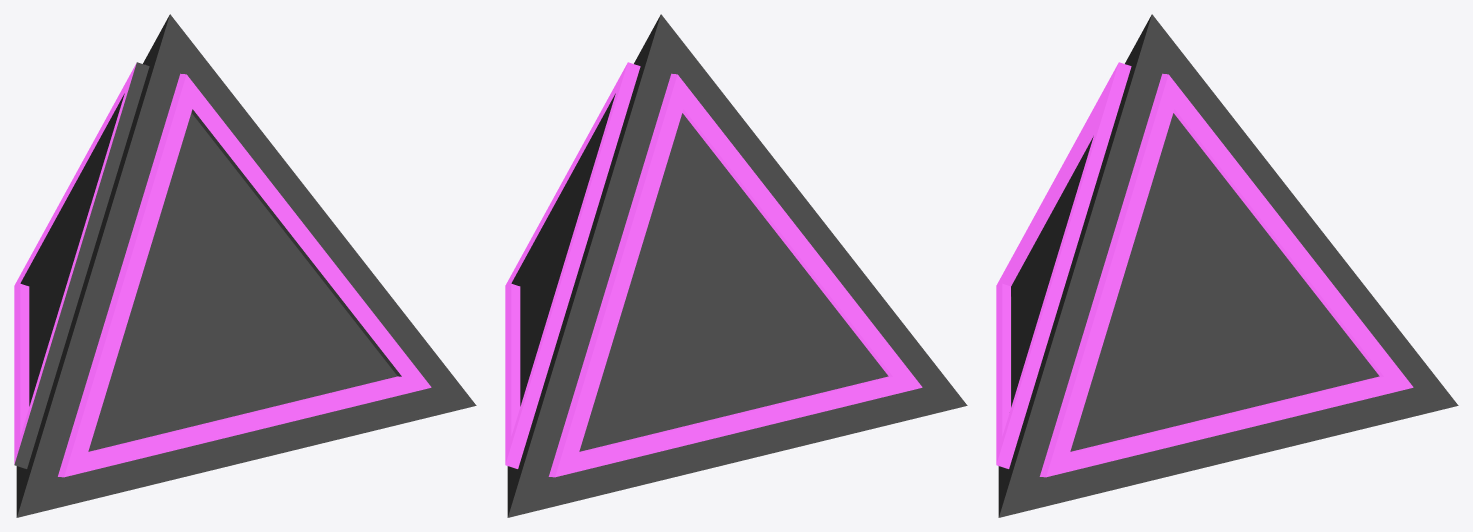
Rendered from tetrahedron.glb.
3 views of the same model, side by side, from view 1: azimuth 30°, elevation 25°; view 2: azimuth 150°, elevation 25°; view 3: azimuth 270°, elevation 25° (orthographic).
Visible parts, largest first — view 1: Tetahedron.001; view 2: Tetahedron.001; view 3: Tetahedron.001.
Boxes of the visible parts, x1=… form: Tetahedron.001: x1=14, y1=14, x2=476, y2=517; Tetahedron.001: x1=505, y1=14, x2=967, y2=517; Tetahedron.001: x1=996, y1=14, x2=1458, y2=517.
Bounding box in the file's own units: 1 × 0.8394 × 0.8706.
